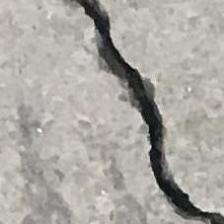Crack: (55, 0, 224, 224)
